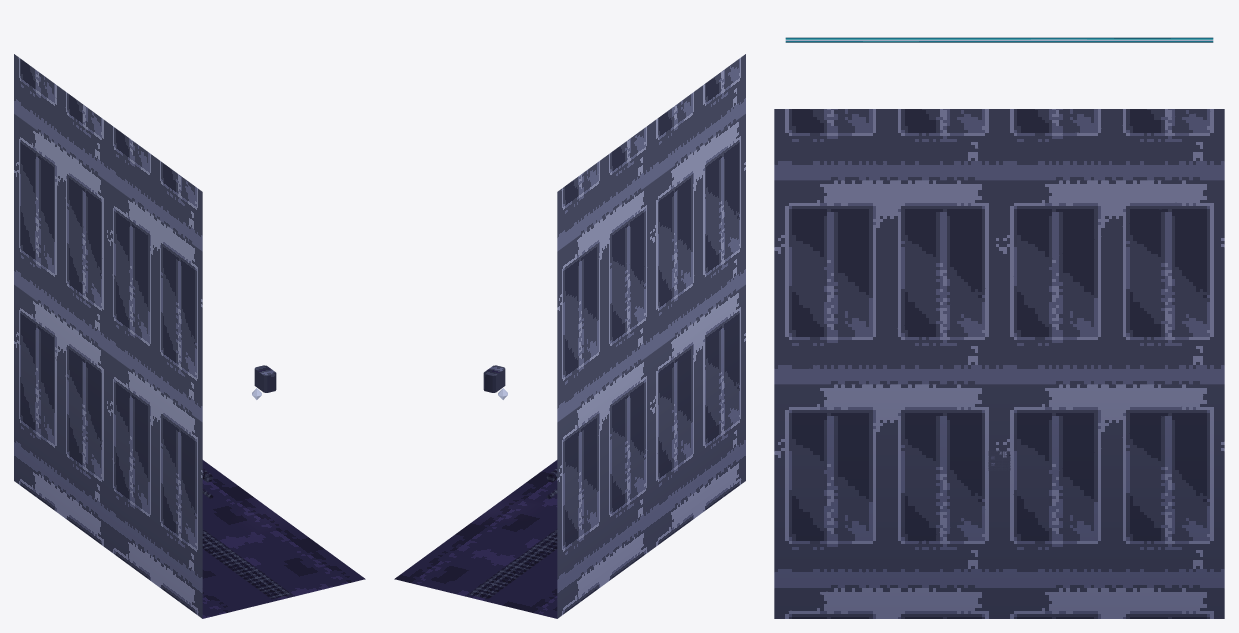
File: cystreet.alley.glb
3 views of the same model, side by side, from view 1: azimuth 30°, elevation 25°; view 2: azimuth 150°, elevation 25°; view 3: azimuth 270°, elevation 25° (orthographic). The views are drawn at different scales.
Parts seen in each view (by area): view 1: kit_shell_walls, kit_shell_ground, kit_pipes; view 2: kit_shell_walls, kit_shell_ground, kit_pipes; view 3: kit_shell_walls, kit_card_neon.
Boxes of the visible parts, x1,y1,x2,y2 form: kit_shell_walls: [14, 54, 202, 618]; kit_shell_ground: [202, 460, 365, 618]; kit_pipes: [202, 365, 276, 499]; kit_shell_walls: [557, 54, 745, 618]; kit_shell_ground: [394, 460, 557, 618]; kit_pipes: [483, 365, 557, 499]; kit_shell_walls: [774, 109, 1224, 618]; kit_card_neon: [785, 37, 1213, 42].
Size of the model in its own units: 4 by 10 by 8.
Materials: 5 (5 with a texture image).
